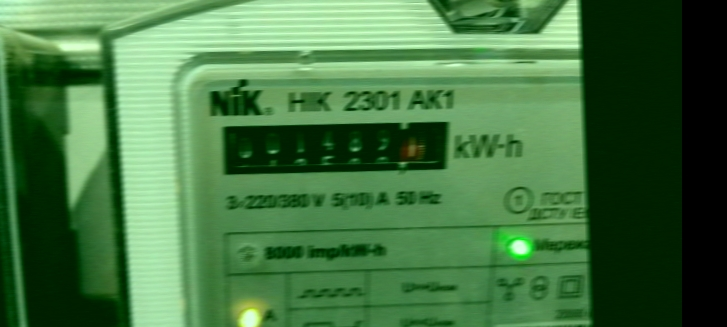0: (263, 130, 280, 155), (236, 135, 252, 160)
1: (292, 128, 307, 157), (404, 129, 417, 160)
4: (319, 127, 336, 154)
8: (345, 126, 363, 154)
9: (374, 127, 390, 153)
screen: (207, 106, 465, 192)
